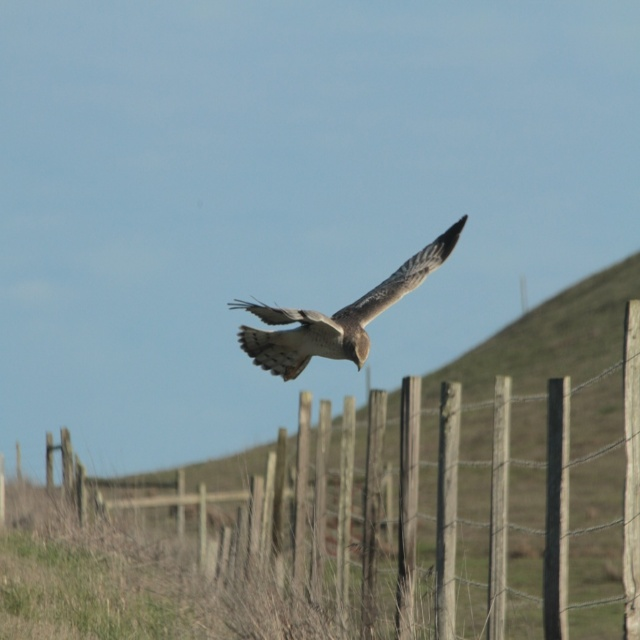Eagle: (224, 210, 470, 387)
